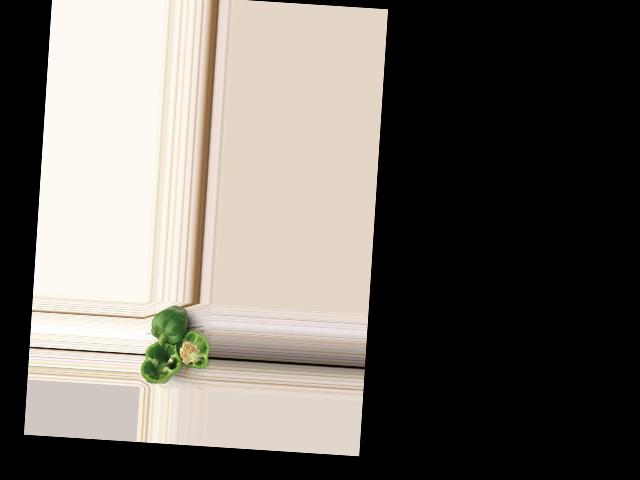bell_pepper: (175, 327, 210, 377)
